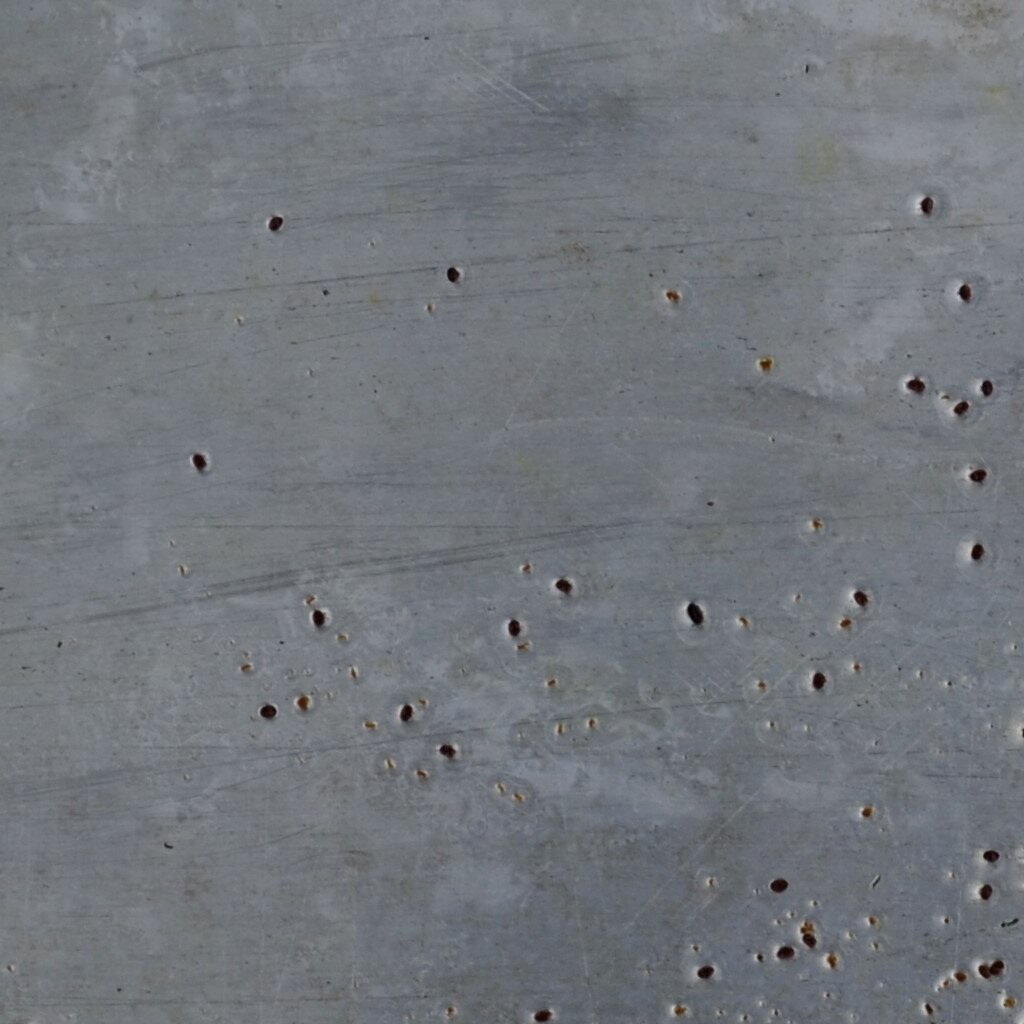varroa: (553, 570, 577, 597), (685, 599, 706, 629), (916, 189, 937, 217), (775, 938, 796, 965), (950, 394, 971, 420), (767, 874, 791, 896), (955, 279, 975, 305), (506, 616, 525, 642), (190, 449, 210, 473), (851, 585, 870, 610), (696, 961, 718, 982), (259, 699, 278, 723), (906, 374, 927, 395), (310, 607, 328, 631), (438, 740, 459, 760), (966, 464, 988, 483), (532, 1004, 554, 1023), (810, 668, 828, 691), (444, 263, 463, 283), (969, 540, 986, 562), (979, 846, 1001, 863), (399, 701, 415, 724), (266, 213, 283, 234), (989, 956, 1006, 977), (977, 960, 994, 981), (977, 881, 994, 902), (801, 930, 818, 950), (978, 377, 994, 398)
